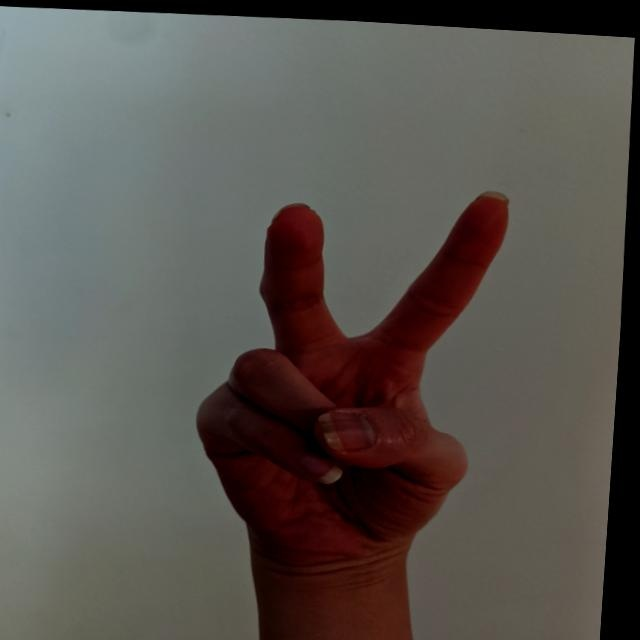V: (181, 160, 529, 575)
